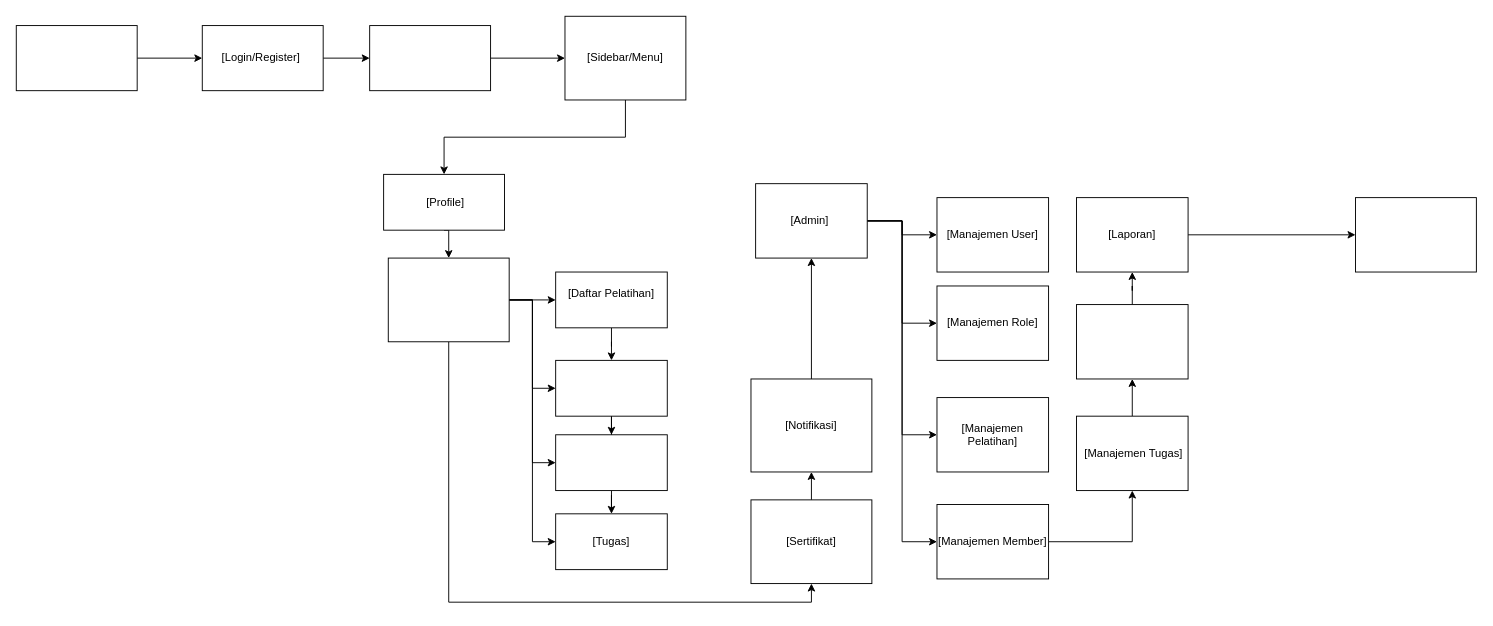
Some shapes in this 1493 by 626 pixel diagram are drawn without their labels. Each missing label, with the centre of its shape:
[Dashboard]: (430,58)
[Detail Pelatihan]: (611,387)
[Manajemen Sertifikat]: (1132,341)
[Materi]: (611,462)
[Welcome]: (76,58)
l[ogout]: (1415,234)
pelatihan: (448,299)
